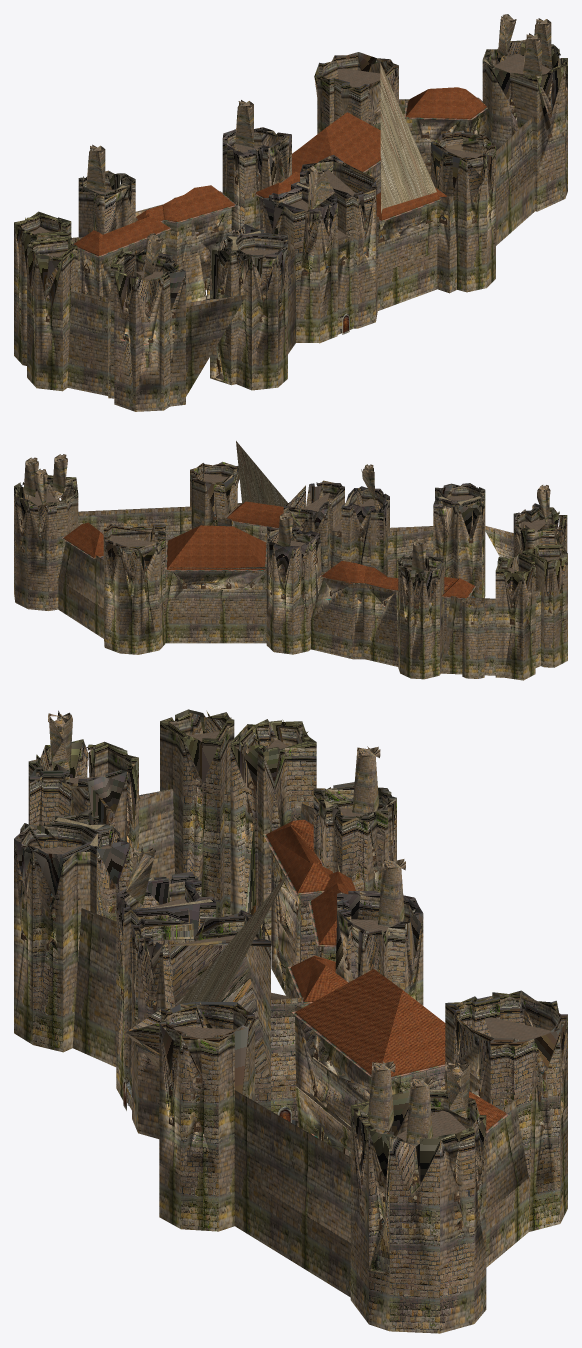
The model's file is castle-xiii.glb.
3 views of the same model, one above another, from view 1: azimuth 30°, elevation 25°; view 2: azimuth 150°, elevation 25°; view 3: azimuth 270°, elevation 25° (orthographic). The views are drawn at different scales.
Parts seen in each view (by area): view 1: NODE7, NODE, NODE7.001, NODE10.001, NODE4, cylinder.012, cylinder.011, cylinder.010, NODE0, cylinder.008, cylinder.009, cylinder.005 (+1 smaller); view 2: NODE7, NODE, NODE7.001, NODE10.001, NODE4, cylinder.008, cylinder.009, cylinder.011, NODE0, cylinder.012, cylinder.018, cylinder.005 (+1 smaller); view 3: NODE7, NODE, NODE7.001, NODE10.001, NODE4, cylinder.008, cylinder.012, cylinder.011, cylinder.009, cylinder.018, cylinder.005, NODE0 (+1 smaller).
Boxes of the visible parts, box(x1,y1,x2,y2) form: NODE7: box(14, 39, 567, 411); NODE: box(74, 87, 486, 255); NODE7.001: box(80, 59, 492, 250); NODE10.001: box(32, 68, 481, 280); NODE4: box(32, 83, 565, 343); cylinder.012: box(86, 144, 105, 192); cylinder.011: box(235, 100, 254, 147); cylinder.010: box(308, 165, 334, 210); NODE0: box(74, 97, 487, 257); cylinder.008: box(523, 33, 541, 75); cylinder.009: box(534, 18, 551, 65); cylinder.005: box(497, 14, 516, 58); NODE7: box(14, 461, 567, 680); NODE: box(63, 501, 474, 598); NODE7.001: box(66, 441, 481, 573); NODE10.001: box(110, 473, 559, 573); NODE4: box(21, 497, 564, 624); cylinder.008: box(52, 454, 67, 493); cylinder.009: box(23, 457, 38, 496); cylinder.011: box(278, 512, 293, 546); NODE0: box(61, 521, 476, 599); cylinder.012: box(411, 537, 426, 573); cylinder.018: box(537, 485, 550, 523); cylinder.005: box(34, 468, 47, 504); NODE7: box(14, 709, 567, 1333); NODE: box(266, 819, 506, 1130); NODE7.001: box(55, 799, 445, 1091); NODE10.001: box(38, 731, 550, 1040); NODE4: box(21, 776, 545, 1233); cylinder.008: box(368, 1061, 395, 1131); cylinder.012: box(352, 746, 380, 814); cylinder.011: box(378, 858, 405, 926); cylinder.009: box(406, 1077, 433, 1145); cylinder.018: box(48, 710, 72, 770); cylinder.005: box(445, 1059, 470, 1119); NODE0: box(263, 834, 509, 1133).
Size of the model in its own units: 5.92 by 1.95 by 3.23.
25 materials, 22 textured.
